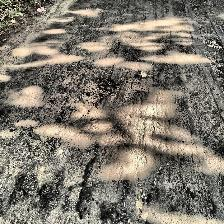pothole: (79, 77, 119, 119), (206, 38, 224, 50)
